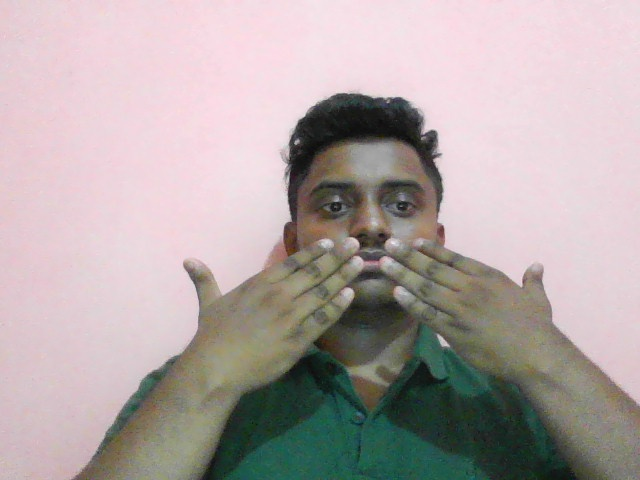Thank You: (141, 234, 608, 417)
